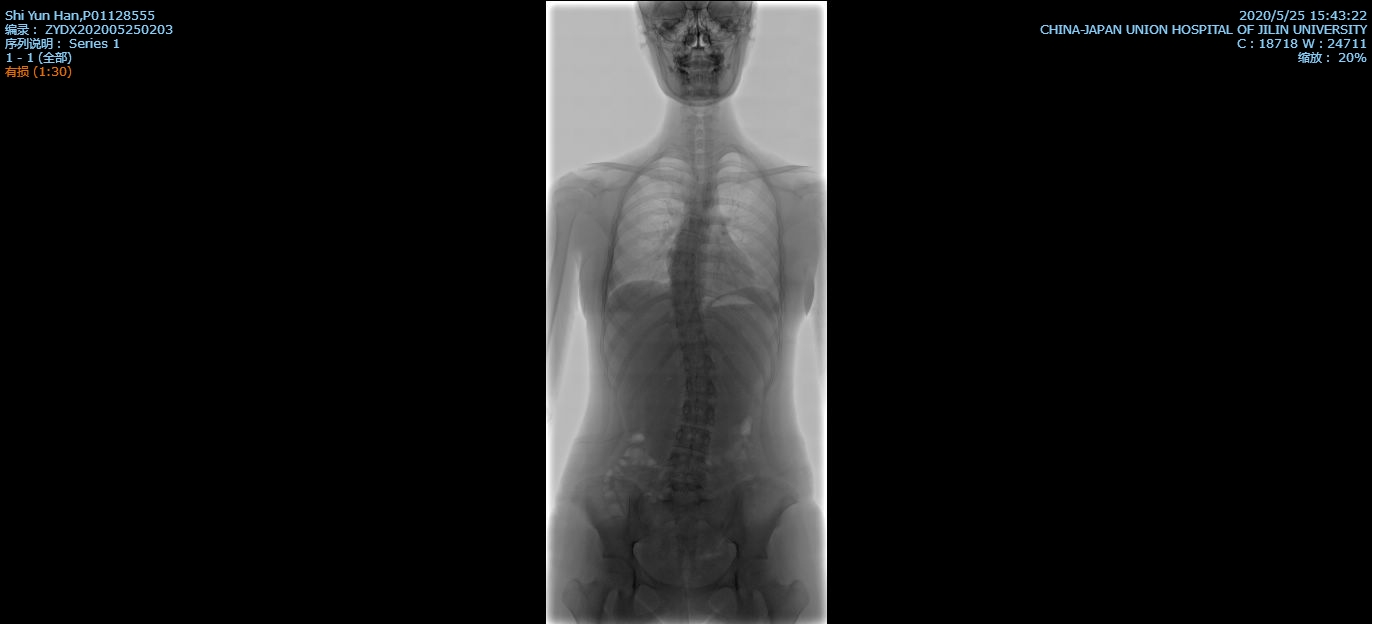Bone: (682, 399, 715, 423), (678, 427, 709, 451), (672, 452, 705, 472), (685, 374, 714, 392), (677, 331, 706, 348), (674, 310, 702, 326), (687, 355, 711, 371), (672, 288, 696, 303), (672, 251, 698, 264), (671, 271, 696, 284), (676, 234, 701, 246)
